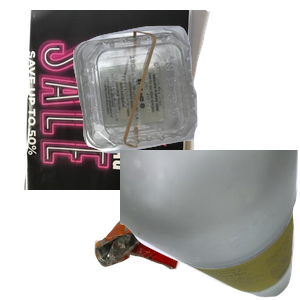glass: (120, 150, 300, 300)
paper: (22, 10, 225, 190)
plastic: (71, 23, 300, 169)
trash: (92, 174, 272, 300)
